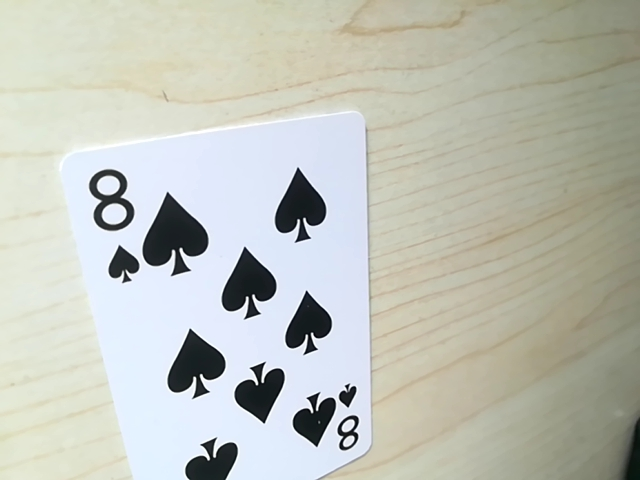ht 8: (80, 157, 151, 286), (323, 389, 367, 462)
